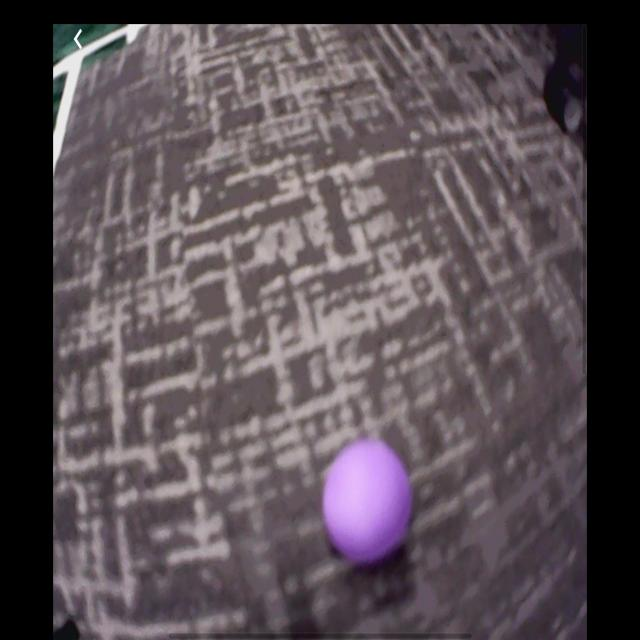ball: (322, 437, 414, 566)
